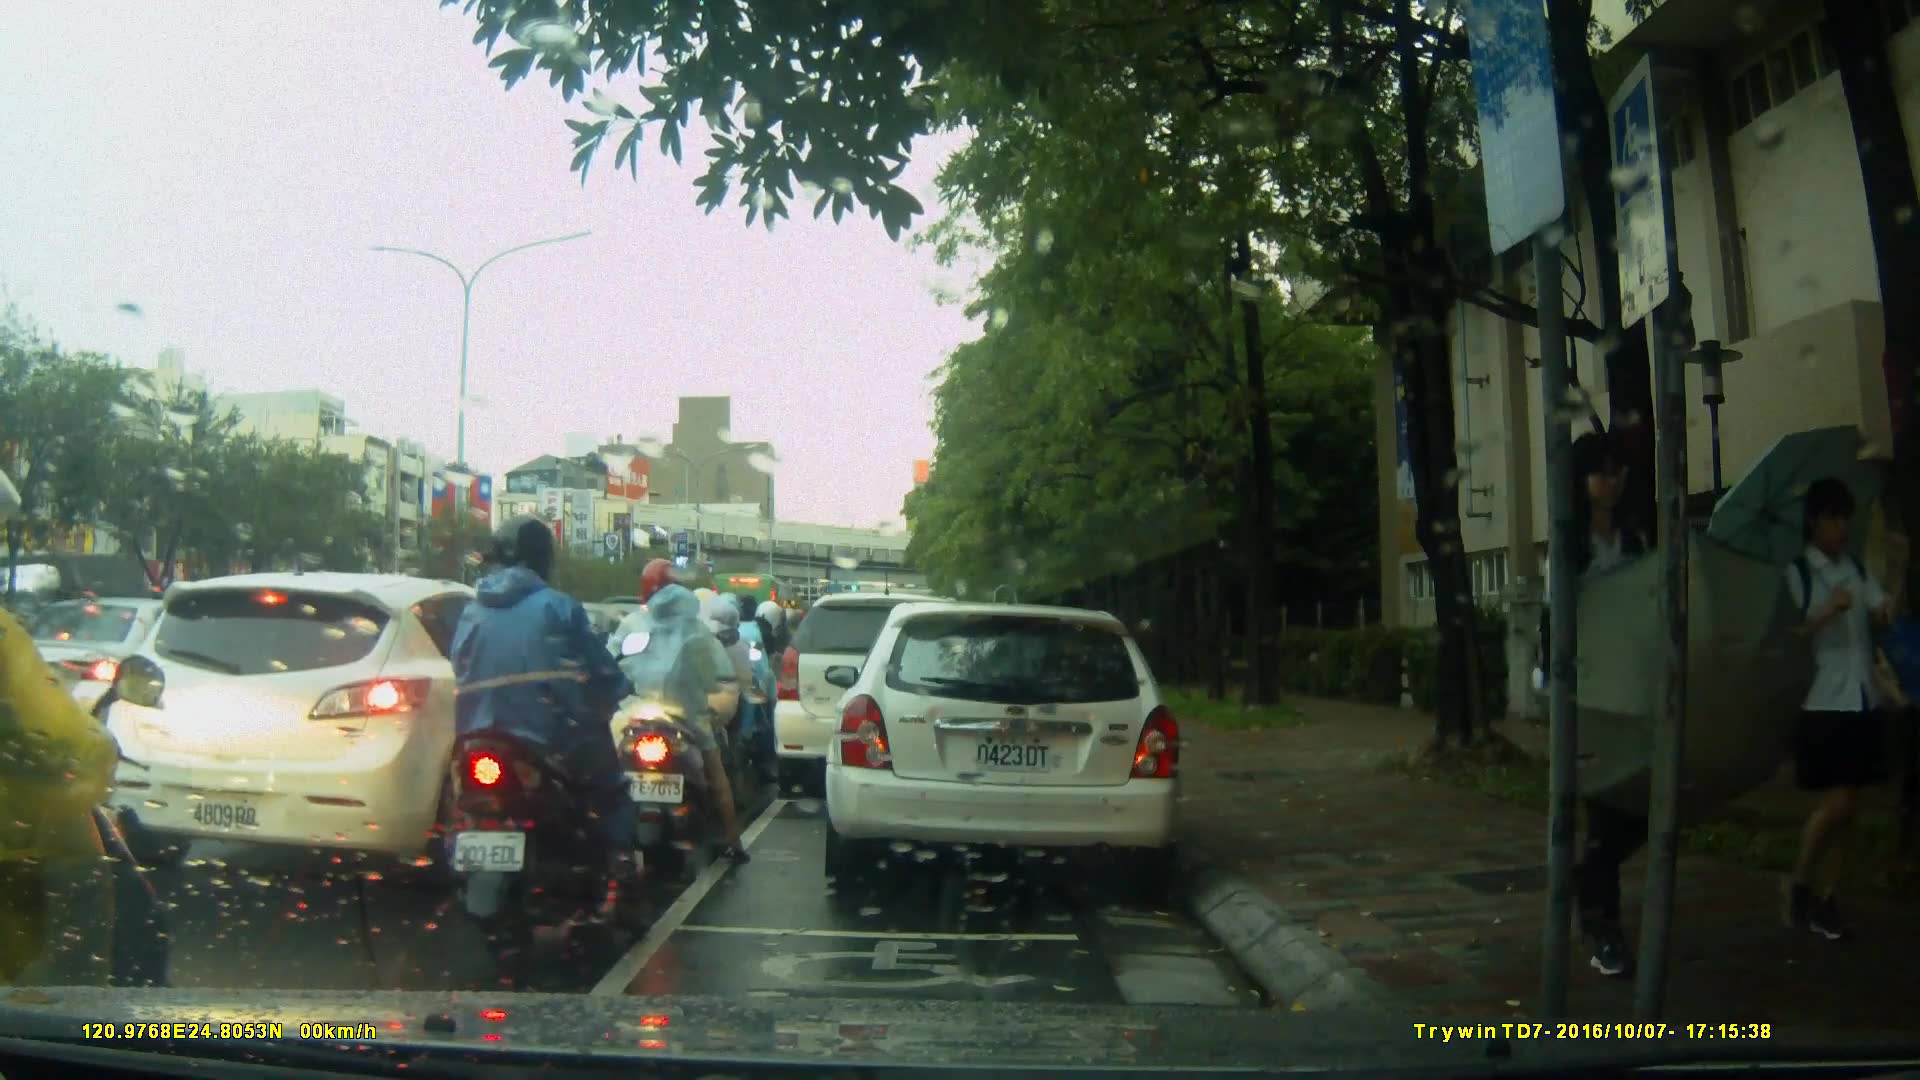pedestrian: (1543, 435, 1706, 982), (1753, 475, 1905, 966)
rider: (1, 455, 189, 1080), (430, 514, 646, 953), (594, 560, 745, 870), (641, 581, 764, 823), (716, 594, 788, 767)
vehicle: (105, 570, 588, 885), (822, 604, 1188, 883), (774, 595, 995, 802), (4, 598, 229, 729)
